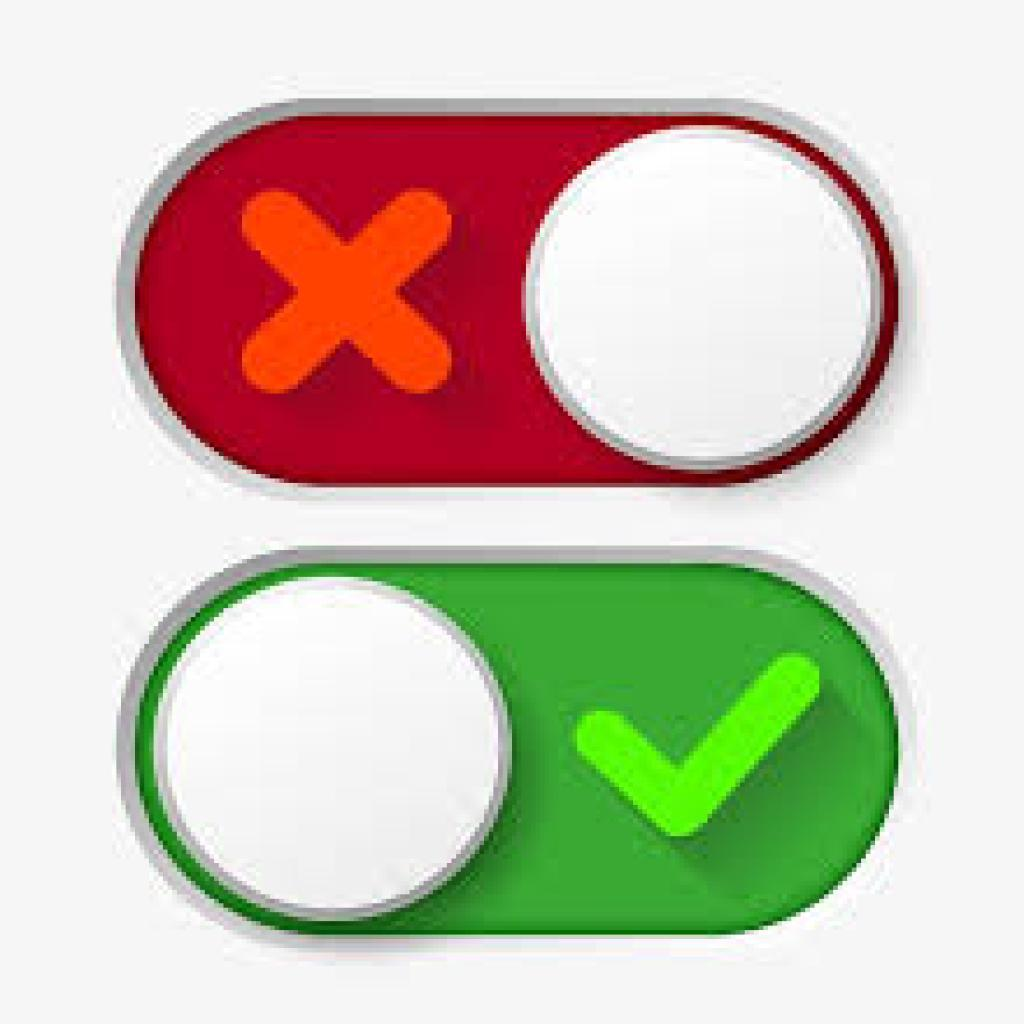switch: (114, 89, 913, 499), (112, 540, 917, 945)
